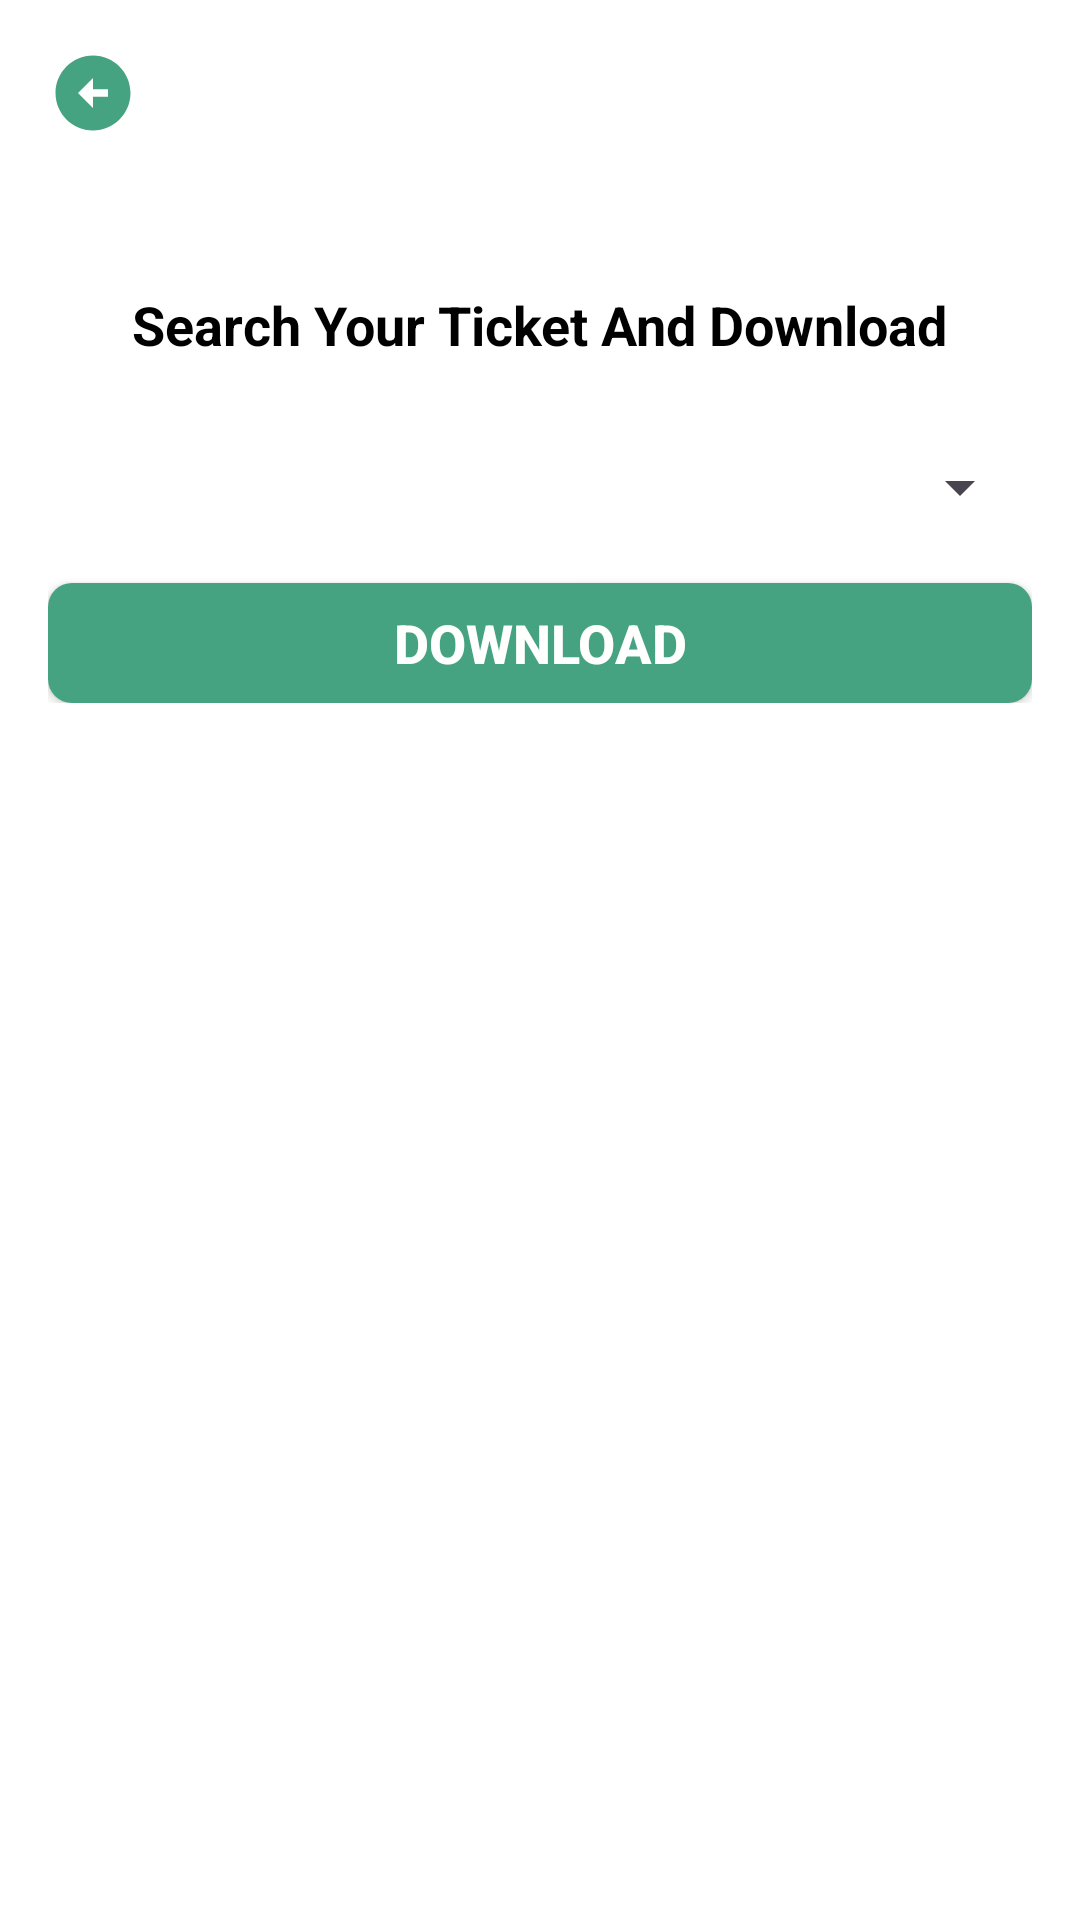

Screen size 1080 × 1920. Icon name, then its box in pixels as [x1, y1, x2, y2]:
back: [55, 55, 131, 131]
